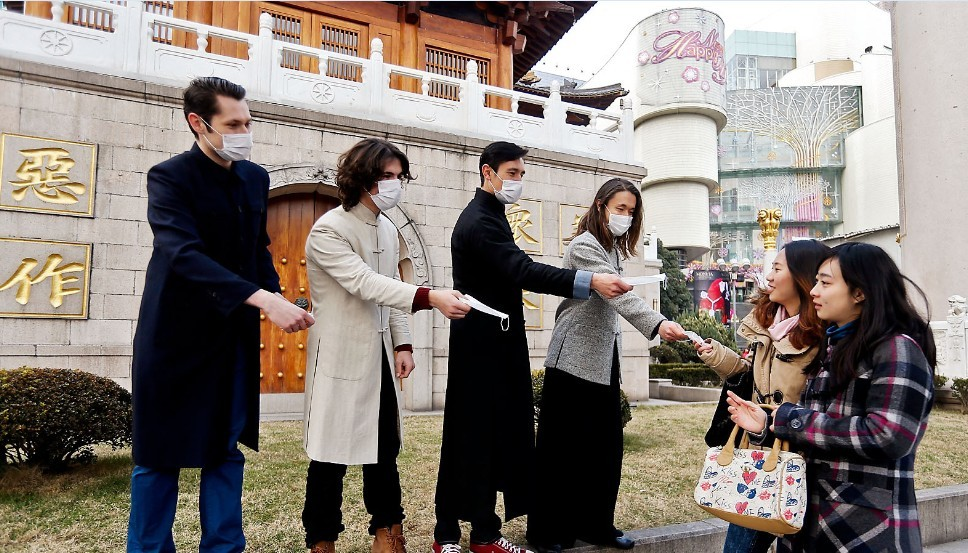face: (812, 264, 850, 319), (764, 247, 801, 300)
face_mask: (207, 105, 253, 161), (368, 165, 406, 212), (608, 195, 639, 241), (498, 161, 526, 203)
